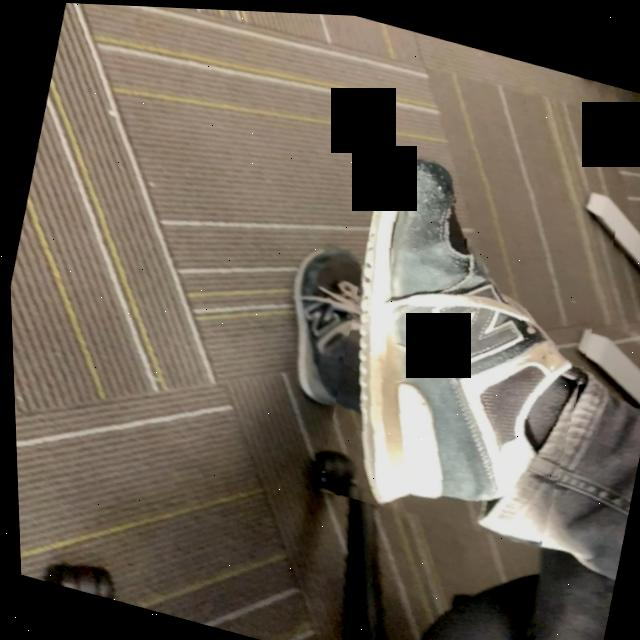shoe: (357, 154, 579, 504)
